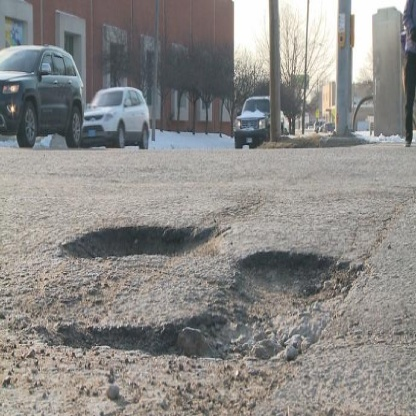pothole: (48, 238, 375, 376), (40, 209, 231, 277)
